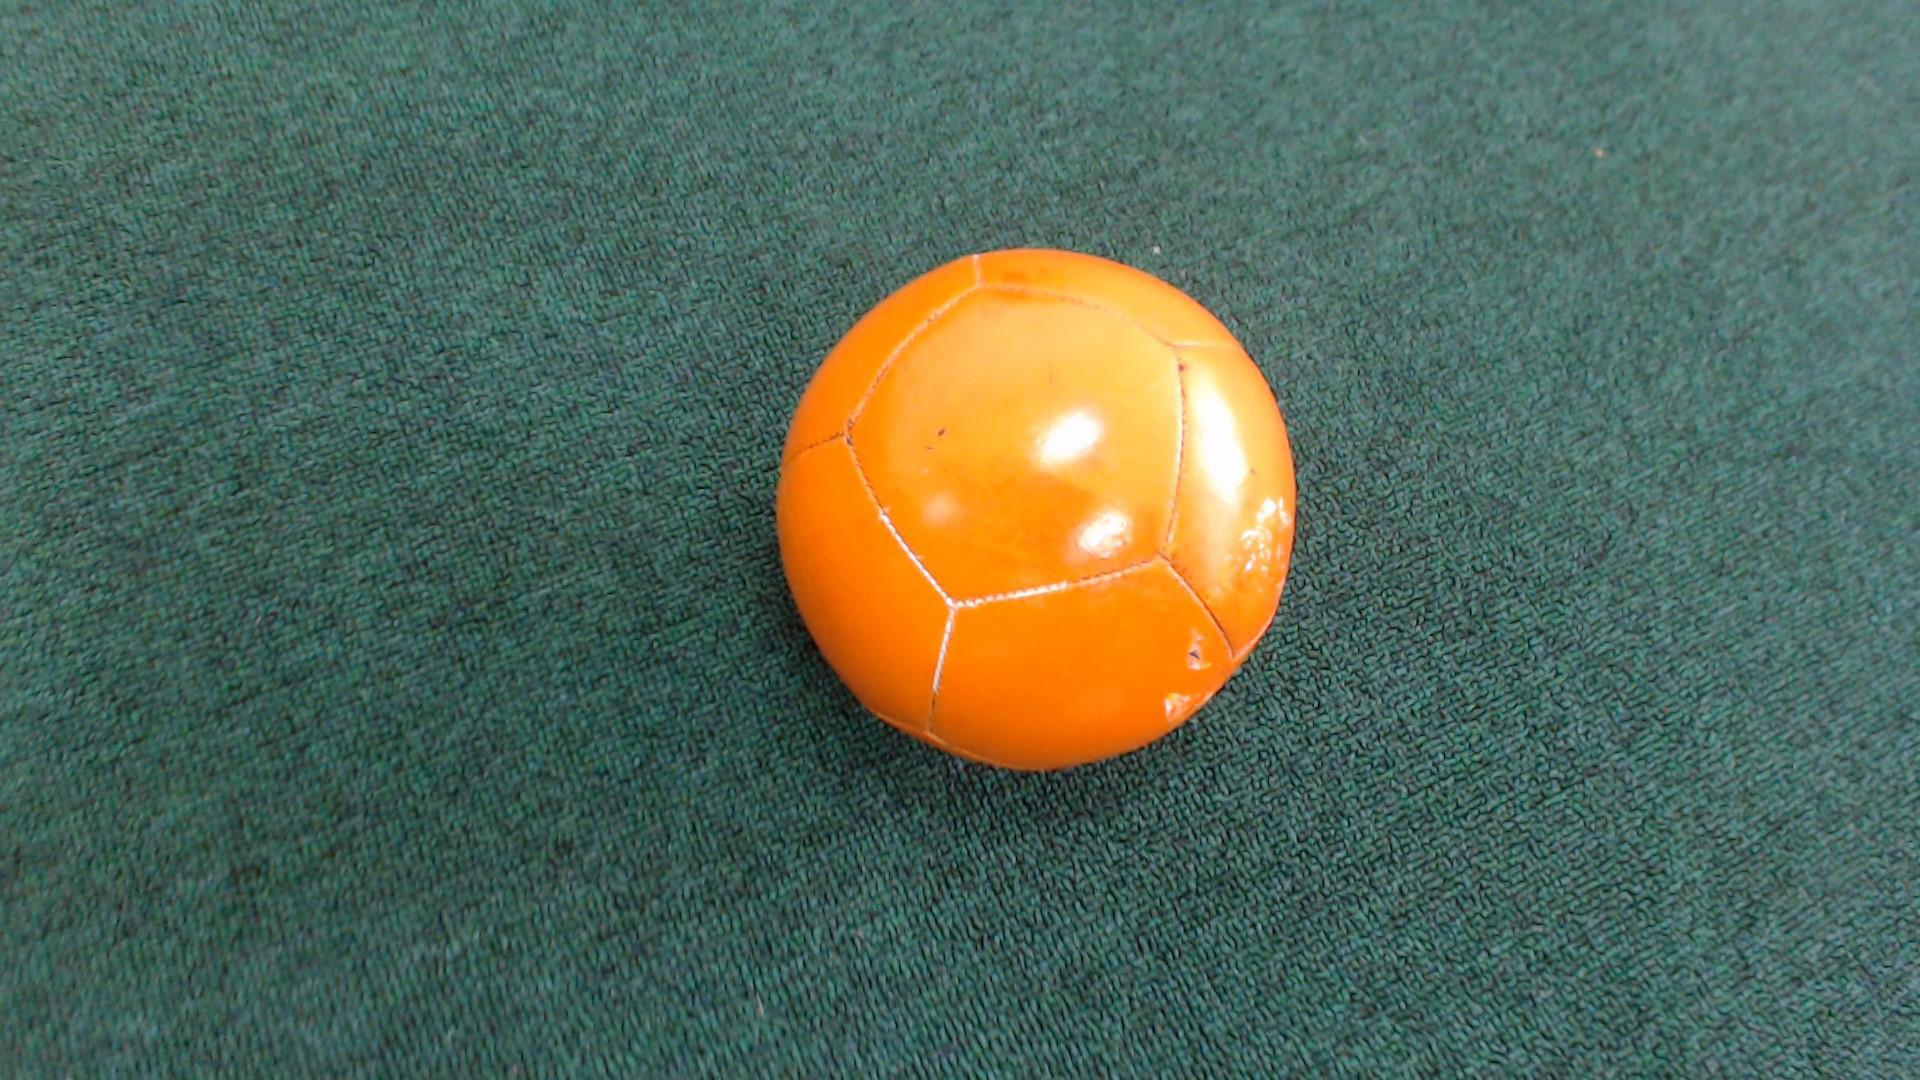bola: (748, 215, 1341, 831)
